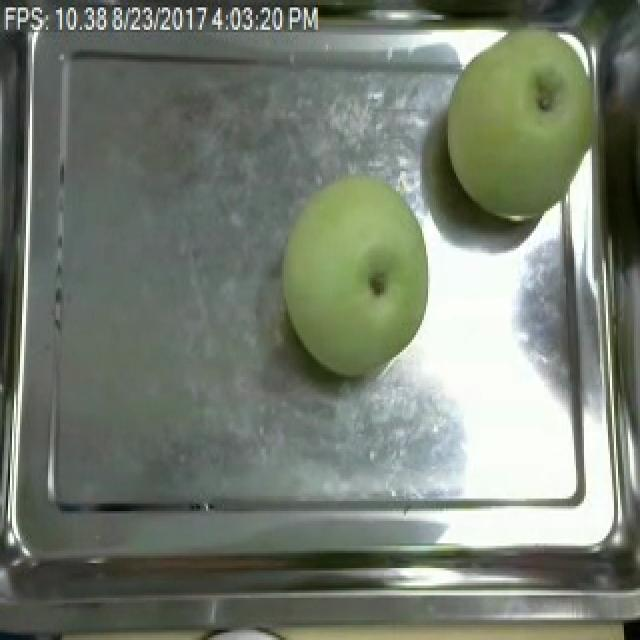50-_ripeness: (272, 166, 446, 392), (436, 15, 603, 236)
